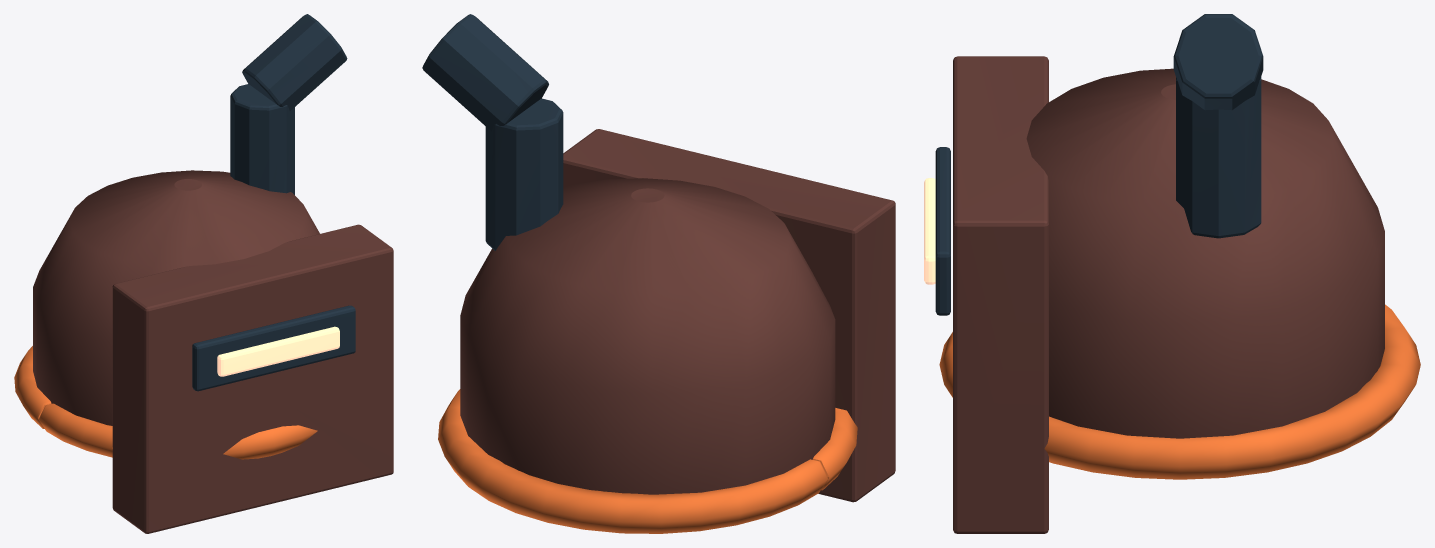
Rendered from item_074.glb.
3 views of the same model, side by side, from view 1: azimuth 30°, elevation 25°; view 2: azimuth 150°, elevation 25°; view 3: azimuth 270°, elevation 25° (orthographic). The views are drawn at different scales.
Parts seen in each view (by area): view 1: Item_074_chimney_welder; view 2: Item_074_chimney_welder; view 3: Item_074_chimney_welder.
Part boxes in pixels (left/top/right/bottom): Item_074_chimney_welder: left=14, top=14, right=393, bottom=533; Item_074_chimney_welder: left=422, top=14, right=895, bottom=533; Item_074_chimney_welder: left=924, top=14, right=1420, bottom=533.
Bounding box in the file's own units: 0.3939 × 0.4568 × 0.388.
